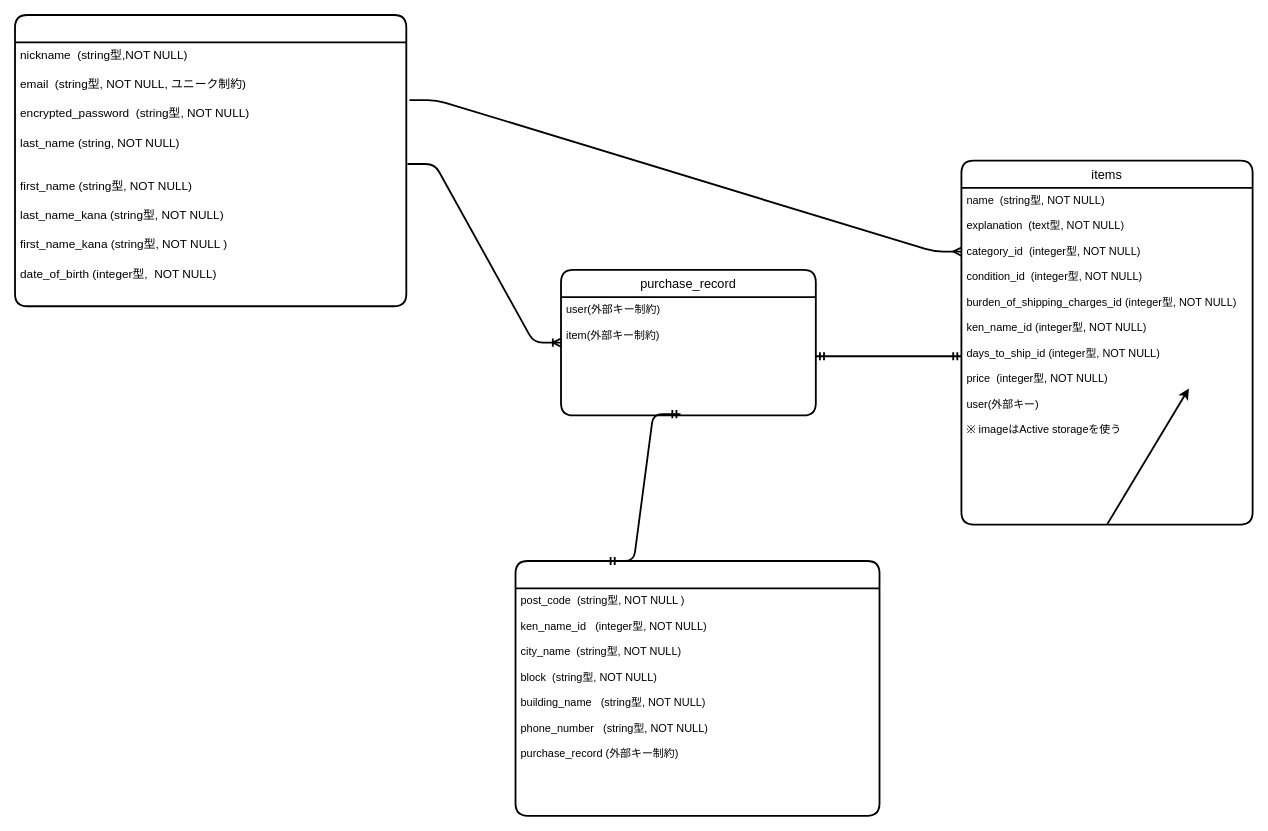
The diagram is 1268 pixels wide and 831 high, and some of its shapes have lost their labels. Here are the shapes that lost their labels. From the top down, the box of each, then its label:
(14, 14, 407, 307): users
(514, 560, 880, 816): shipping_addresses
